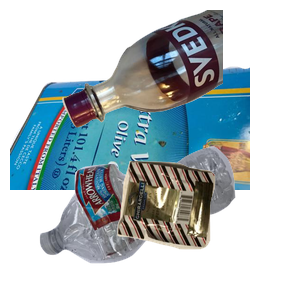glass: (60, 10, 300, 130)
metal: (10, 64, 250, 244)
plastic: (37, 144, 265, 300)
trash: (115, 158, 300, 300)
